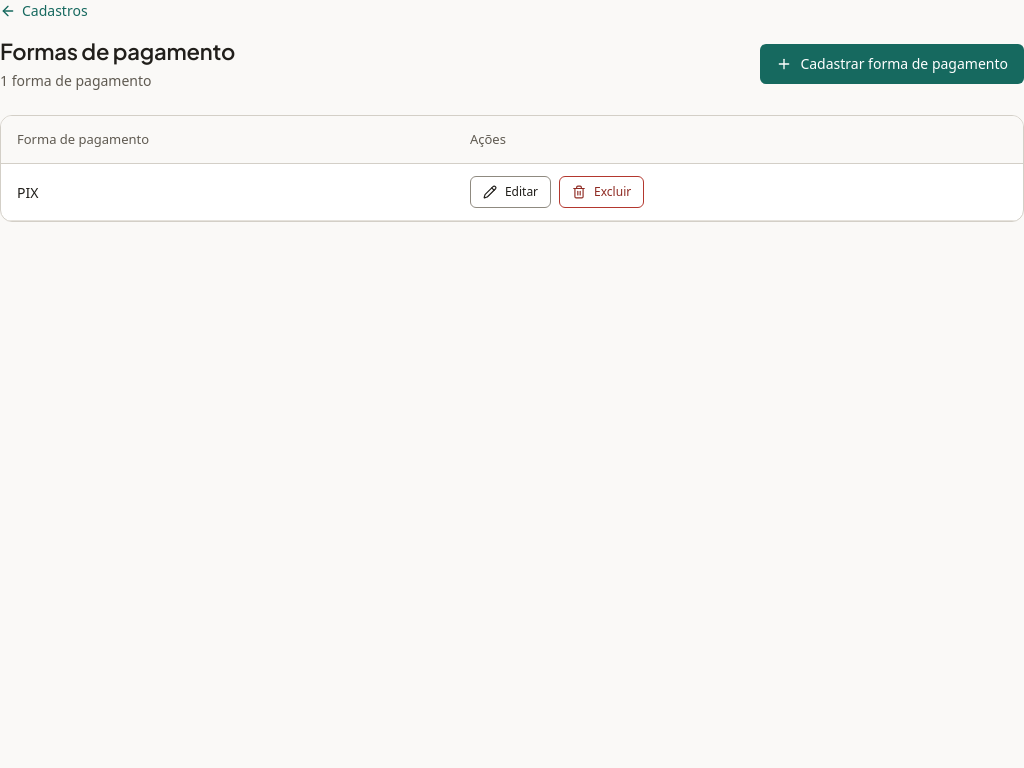
Test case: Formulário de catálogo — teclado (vale para as 13 telas) › deve devolver o foco ao botão que abriu, ao fechar
Expected: the text "PIX" is shown, [1, 164, 454, 221]
Click the button "Cadastrar forma de pagamento" at coordinates (892, 64), box [760, 44, 1023, 84]
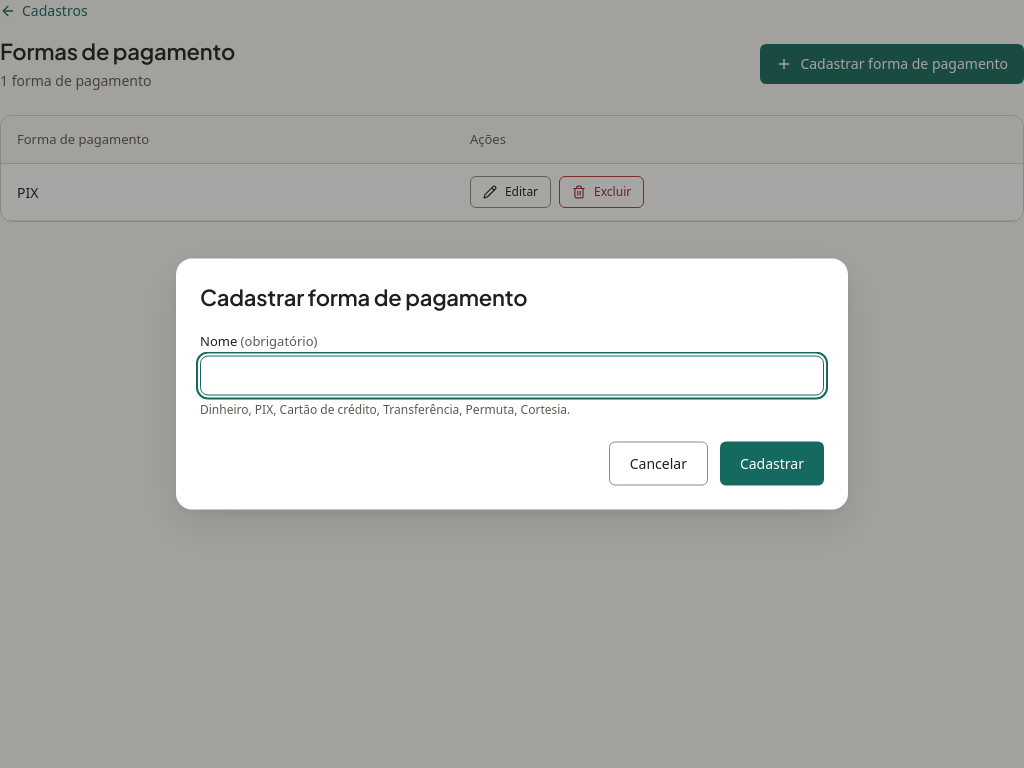
Expected: the dialog is shown, [176, 258, 848, 510]
Press Escape
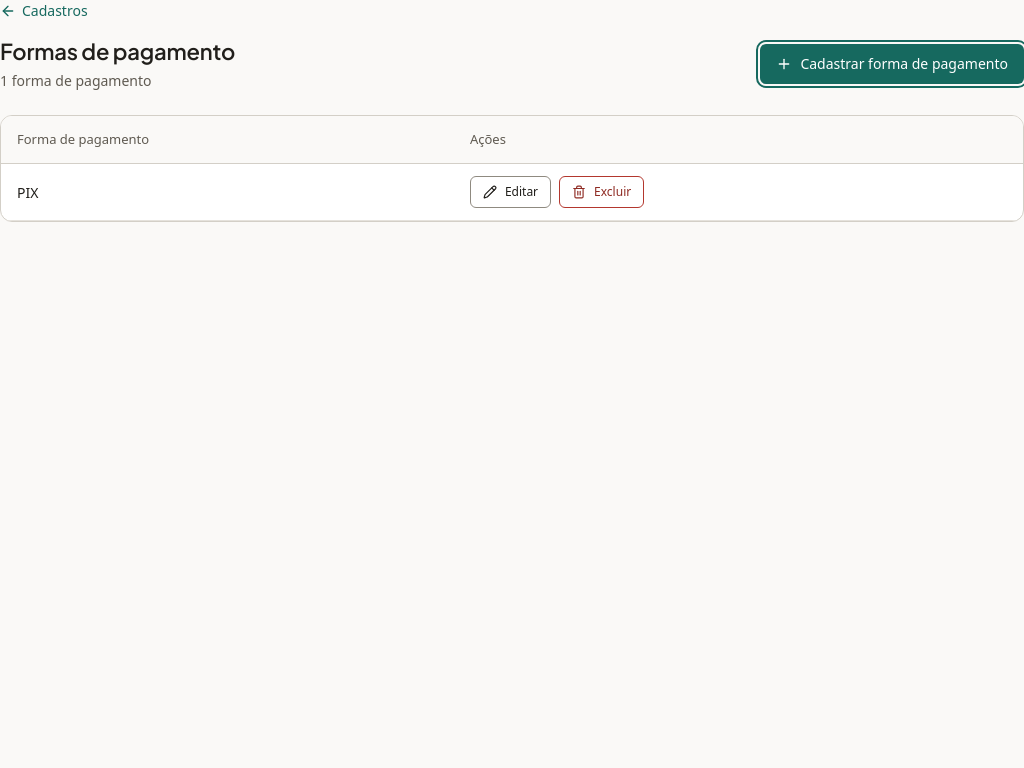
Expected: the dialog is gone
